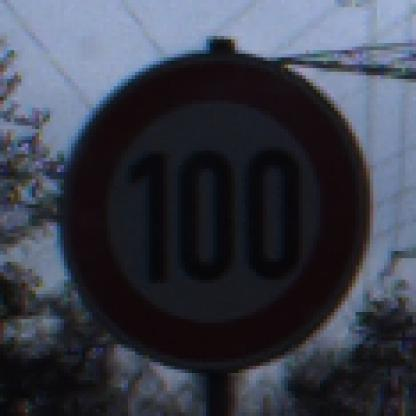Speed Limit 100: (63, 55, 372, 369)
